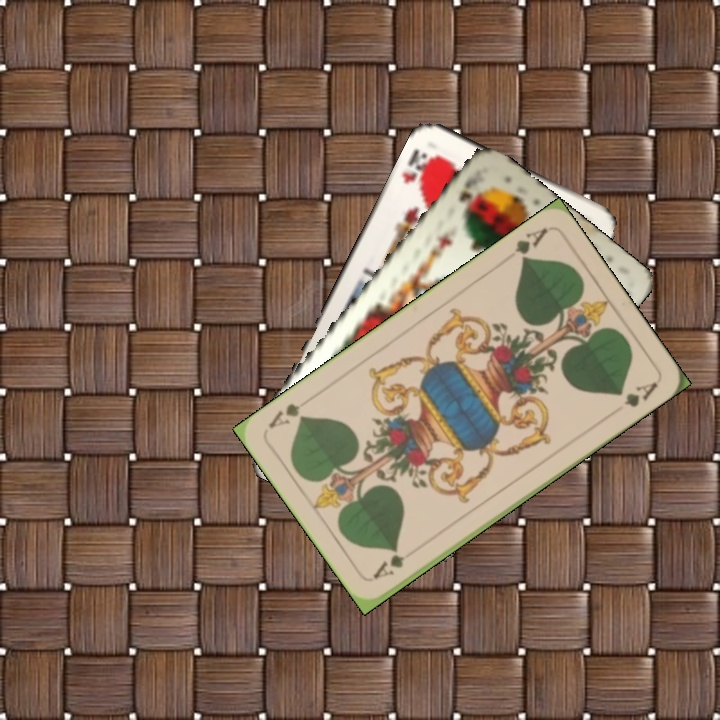GA: (510, 223, 551, 266), (369, 550, 407, 582)
HK: (398, 144, 439, 194)
SK: (454, 173, 481, 214)
